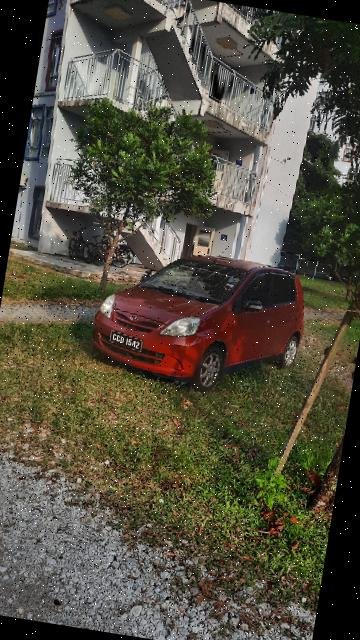License_Plate: (106, 328, 146, 354)
car: (81, 235, 316, 405)
